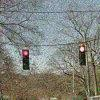traffic lights: (79, 44, 87, 64), (23, 48, 30, 69)
